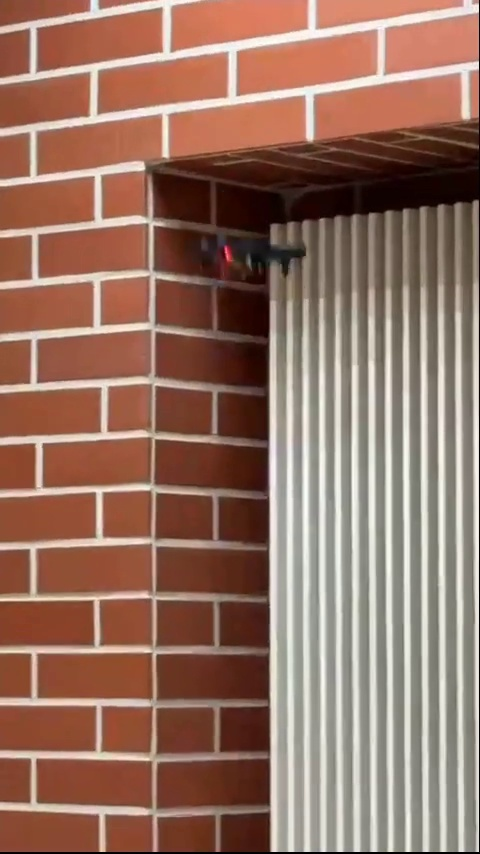drone: (184, 227, 306, 288)
